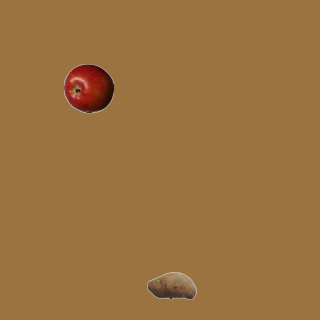Apple Braeburn: (63, 63, 113, 113)
Potato Sweet: (146, 260, 196, 310)
